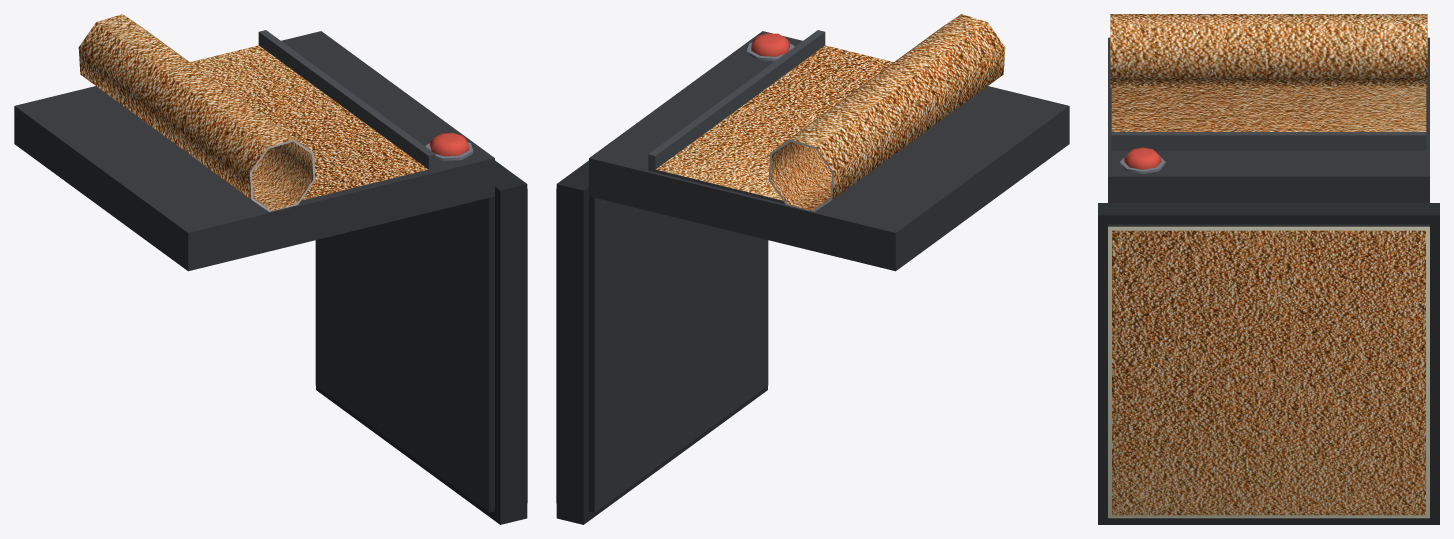
The model's file is SandPaper.fbx.
3 views of the same model, side by side, from view 1: azimuth 30°, elevation 25°; view 2: azimuth 150°, elevation 25°; view 3: azimuth 270°, elevation 25° (orthographic). The views are drawn at different scales.
Visible parts, largest first — view 1: Cube; view 2: Cube; view 3: Cube.
Boxes of the visible parts, x1=… form: Cube: x1=14, y1=14, x2=527, y2=524; Cube: x1=556, y1=14, x2=1069, y2=524; Cube: x1=1098, y1=14, x2=1439, y2=524.
Bounding box in the file's own units: 228 × 273 × 212.
